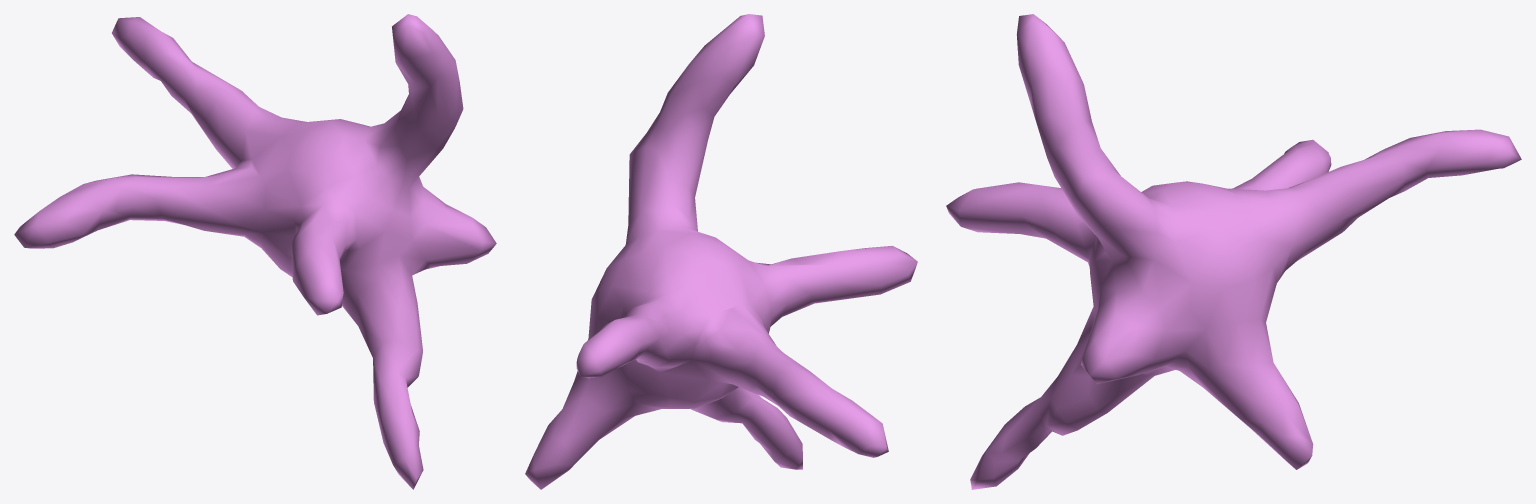
Rendered from Platelet.fbx.
3 renders of one model, left to right at view 1: azimuth 30°, elevation 25°; view 2: azimuth 150°, elevation 25°; view 3: azimuth 270°, elevation 25°, orthographic. The views are drawn at different scales.
Visible parts, largest first — view 1: Platelet; view 2: Platelet; view 3: Platelet.
Part boxes in pixels (x1,y1,x2,y2): Platelet: (14, 14, 496, 489); Platelet: (525, 14, 917, 489); Platelet: (946, 14, 1521, 489).
Bounding box in the file's own units: 2.33 × 2.84 × 2.66.
